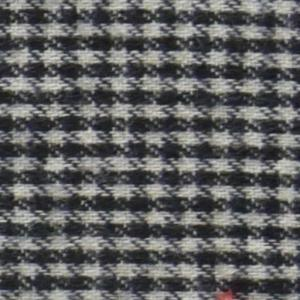Stain: (217, 281, 244, 300)
